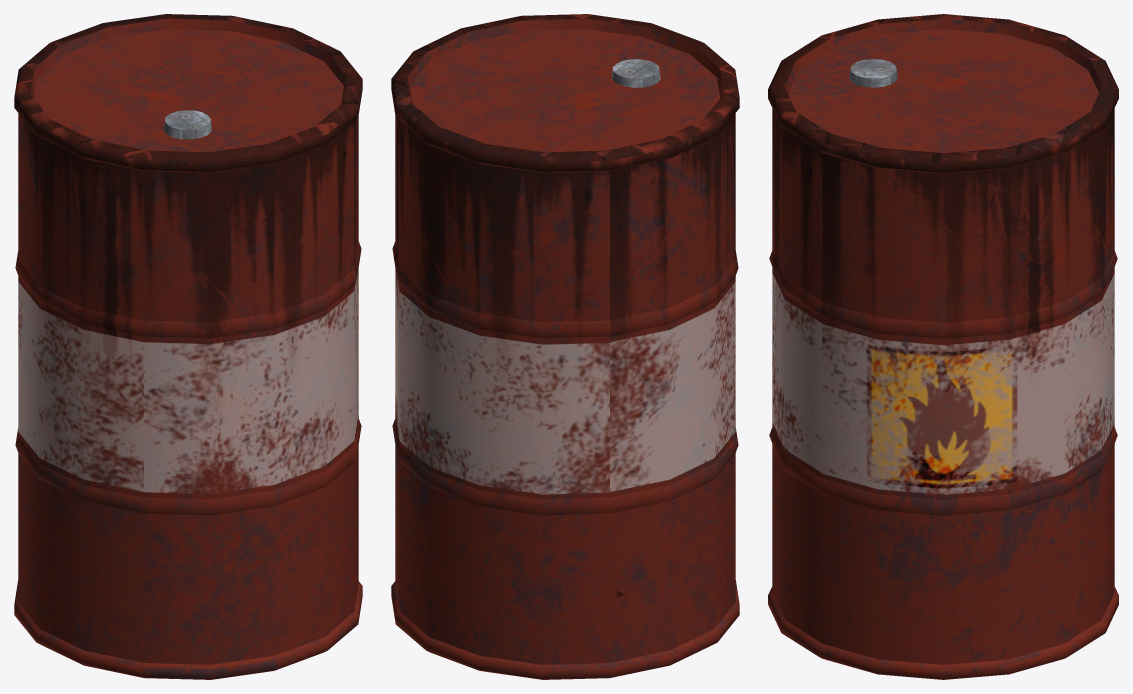
The model's file is OilDrum_Red_Model.FBX.
The picture shows the model from 3 angles, left to right: view 1: azimuth 30°, elevation 25°; view 2: azimuth 150°, elevation 25°; view 3: azimuth 270°, elevation 25°; orthographic projection.
Visible parts, largest first — view 1: OilDrumRed; view 2: OilDrumRed; view 3: OilDrumRed.
Part boxes in pixels (x1=…): OilDrumRed: x1=14, y1=14, x2=362, y2=679; OilDrumRed: x1=391, y1=14, x2=739, y2=679; OilDrumRed: x1=768, y1=14, x2=1118, y2=679.
Size of the model in its own units: 1.43 by 2.35 by 1.43.
1 material, 1 textured.
